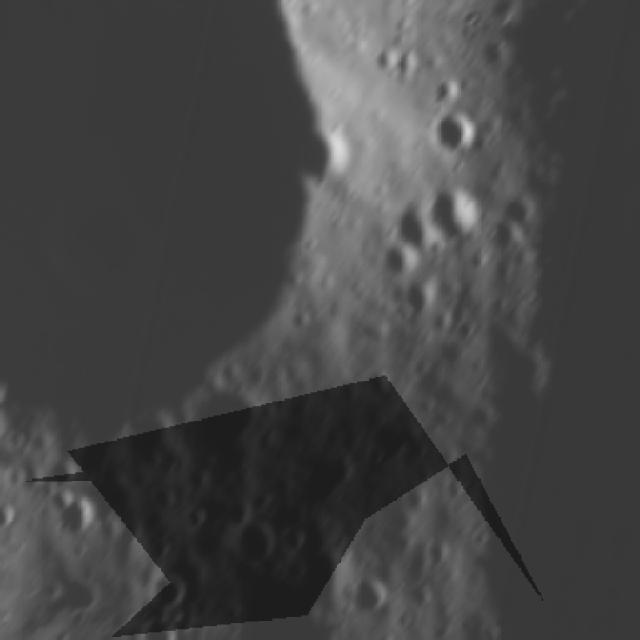crater: (46, 490, 106, 544), (227, 519, 284, 573), (425, 192, 484, 242), (353, 572, 402, 628), (146, 572, 205, 618), (430, 111, 482, 163), (282, 530, 316, 562), (0, 500, 20, 534)
